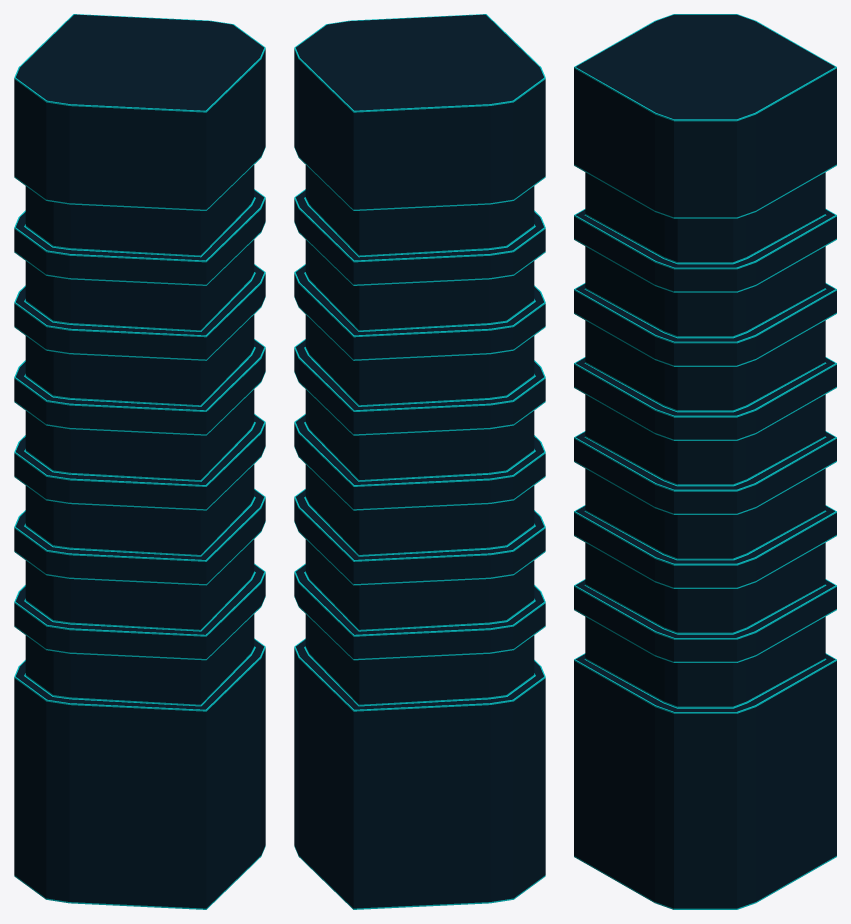
The picture shows the model from 3 angles, left to right: view 1: azimuth 30°, elevation 25°; view 2: azimuth 150°, elevation 25°; view 3: azimuth 270°, elevation 25°; orthographic projection.
Parts seen in each view (by area): view 1: BuildingF03; view 2: BuildingF03; view 3: BuildingF03.
Boxes of the visible parts, bbox=[...] form: BuildingF03: bbox=[14, 14, 265, 909]; BuildingF03: bbox=[294, 14, 545, 909]; BuildingF03: bbox=[574, 14, 836, 909].
Size of the model in its own units: 31.23 by 109 by 32.77.
Materials: 1 (1 with a texture image).
